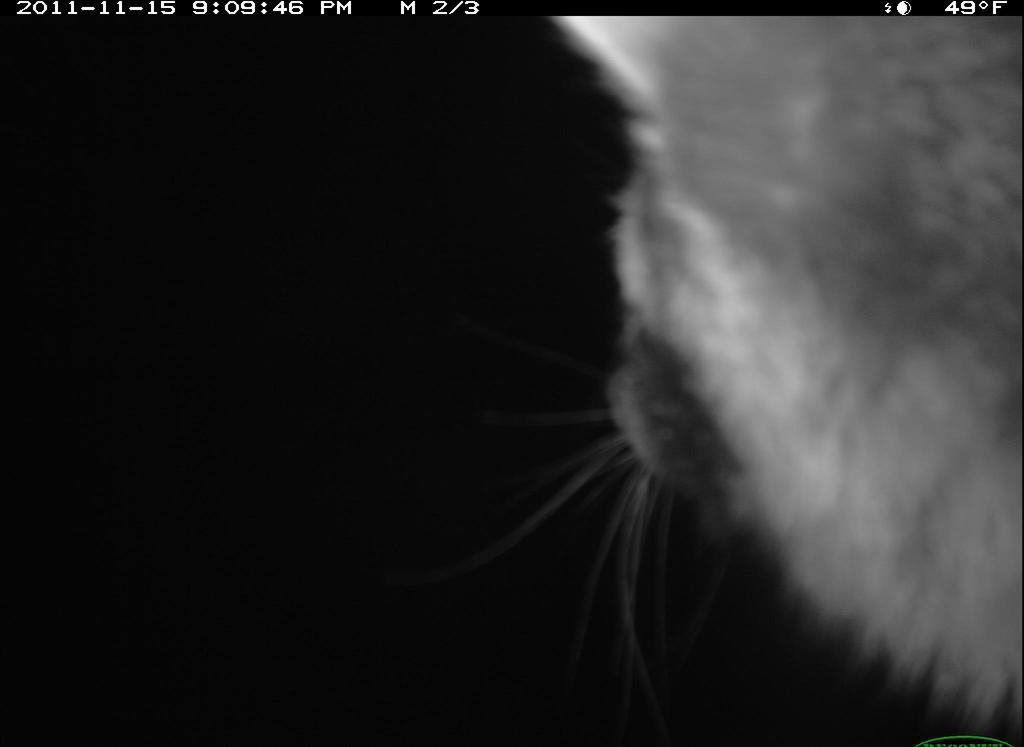raccoon: (536, 8, 1023, 737)
